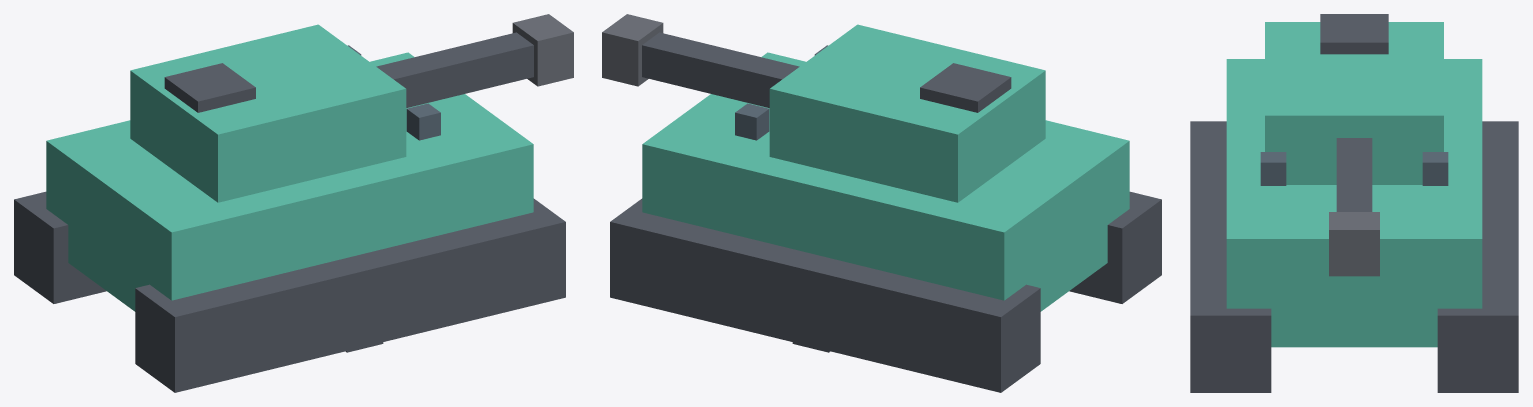
File: tank_buy.glb
3 renders of one model, left to right at view 1: azimuth 30°, elevation 25°; view 2: azimuth 150°, elevation 25°; view 3: azimuth 270°, elevation 25°, orthographic.
Visible parts, largest first — view 1: body, gun; view 2: body, gun; view 3: body, gun.
Part boxes in pixels (box(x1,y1,x2,y2)): body: box(14, 24, 565, 392); gun: box(376, 14, 573, 107); body: box(610, 24, 1161, 392); gun: box(602, 14, 799, 107); body: box(1190, 14, 1518, 392); gun: box(1329, 138, 1379, 276).
Bounding box in the file's own units: 6.45 × 3.04 × 3.85.
